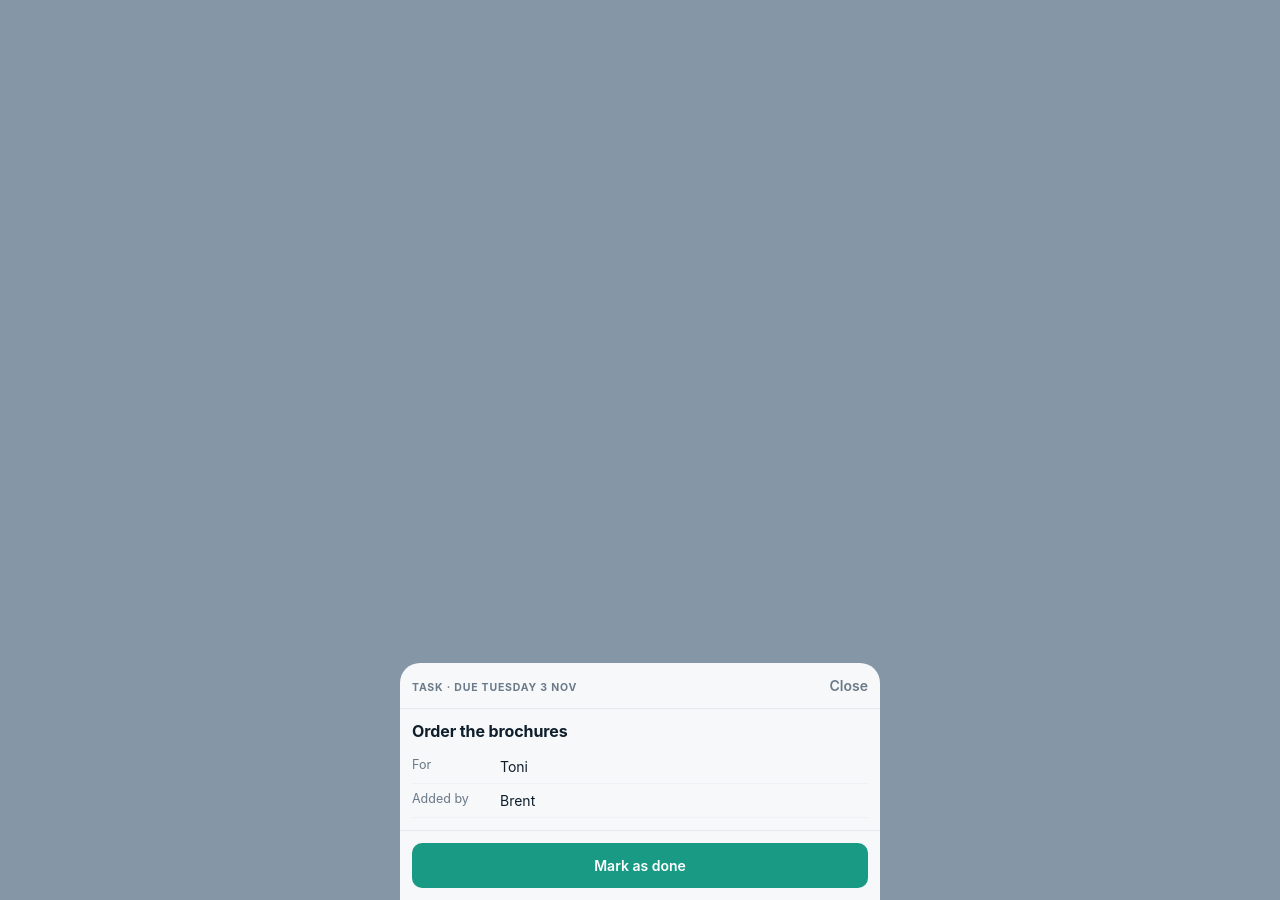
Test case: a task, opened › says what it is and marks it done with one clear button
Expected: the text "Order the brochures" is shown, [412, 721, 568, 741]
Expected: the text "Toni" is shown, [500, 756, 528, 777]
Click the button "Mark as done" at x=640, y=866, box [412, 843, 868, 888]
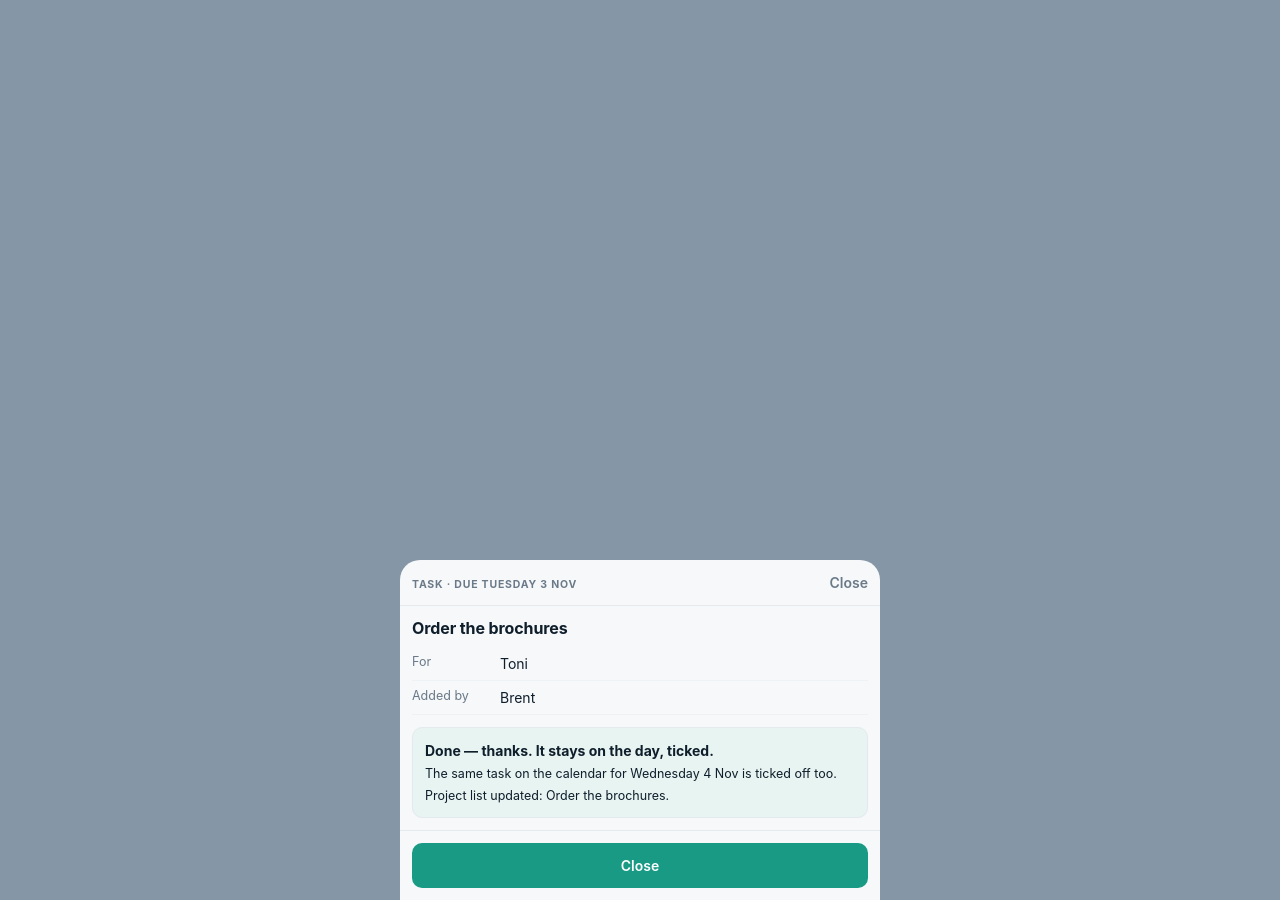
Result: the message shows "Done" at [425, 742, 714, 759]
Result: the message shows "is ticked off too" at [742, 766, 833, 781]
Result: the message shows "Project list updated" at [412, 727, 868, 818]
